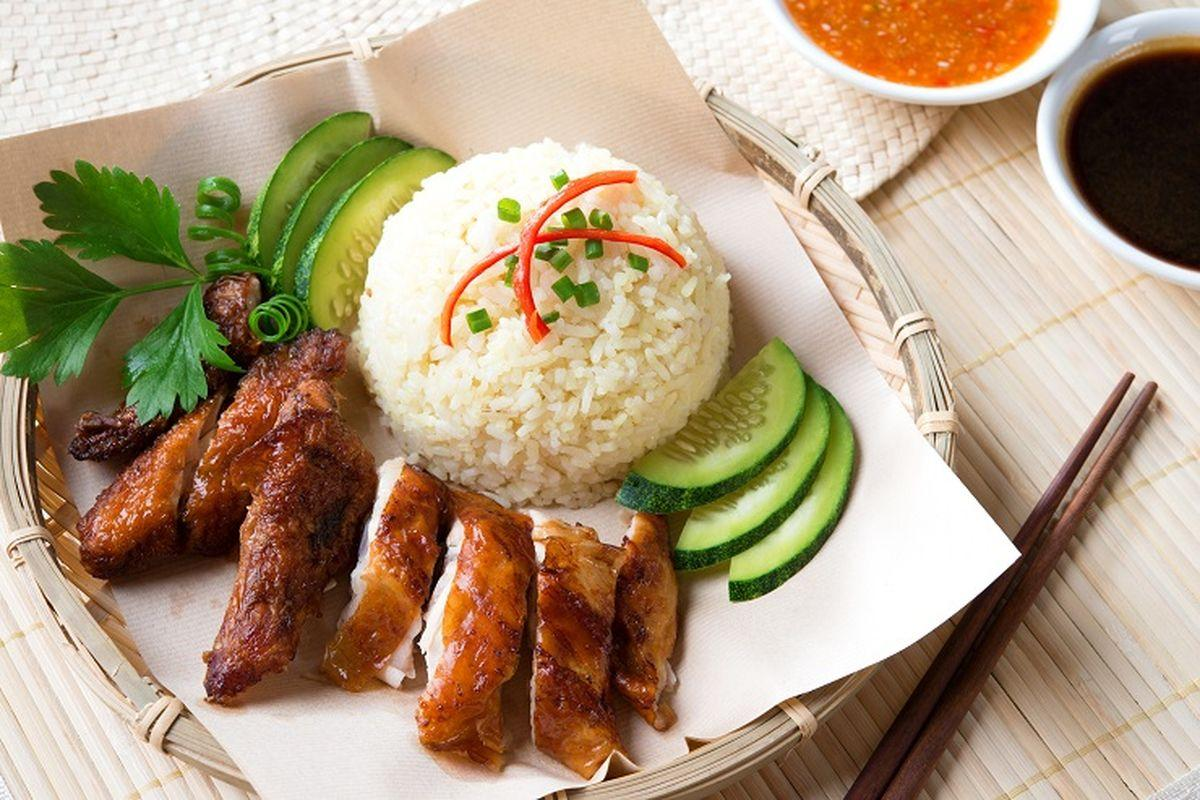buah_sayur_lainnya: (720, 406, 812, 566), (68, 173, 158, 250)
daging: (376, 533, 655, 682), (163, 438, 314, 525)
makanan_berpati: (455, 363, 625, 467)
